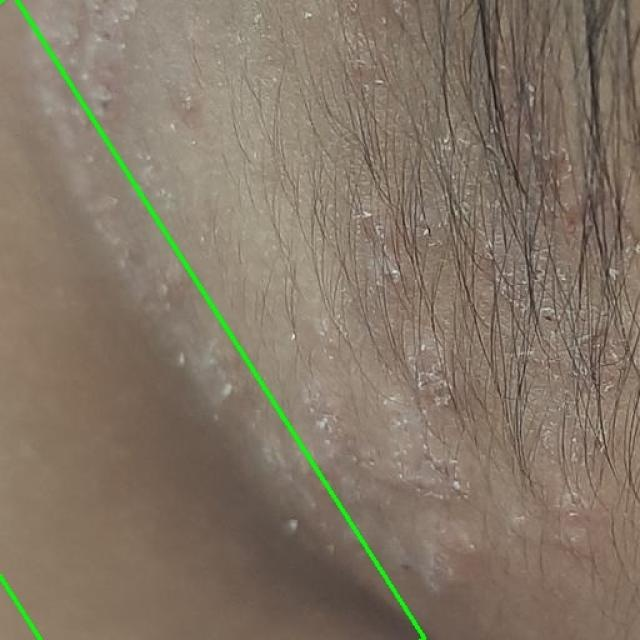Tinea Corporis: (0, 0, 424, 640)
